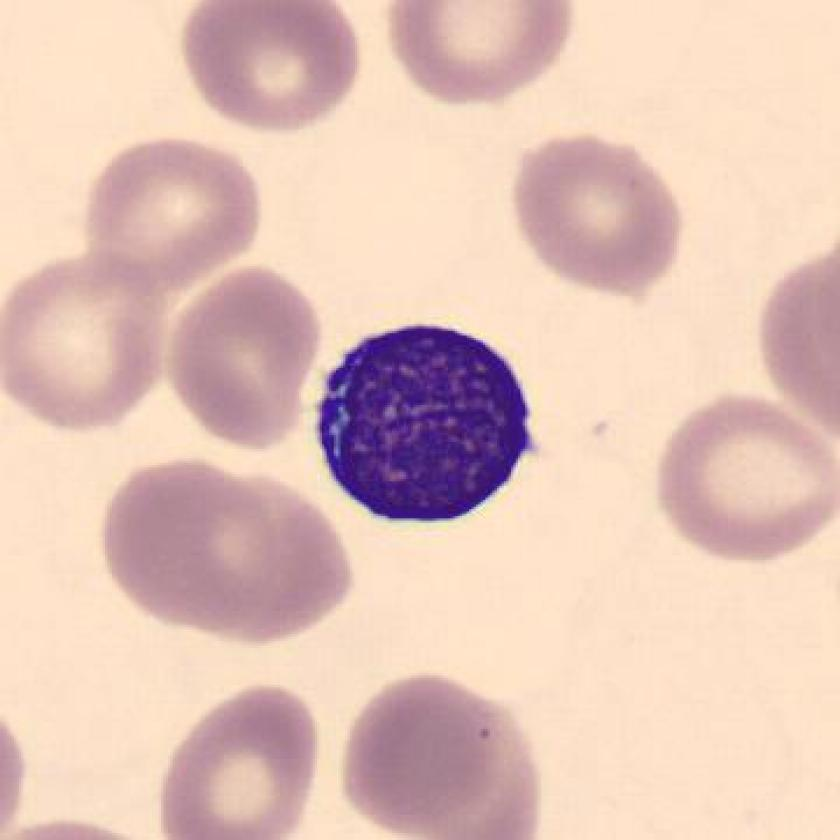lymphocyte: (302, 302, 549, 547)
